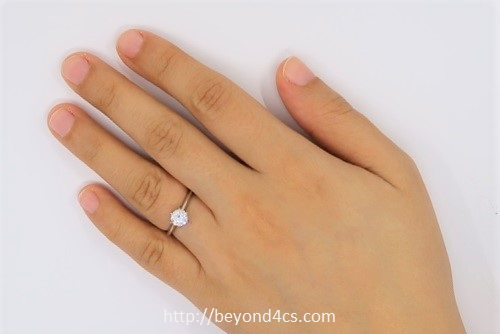finger: (62, 54, 262, 202), (44, 104, 227, 244), (116, 30, 302, 160), (64, 180, 214, 295)
